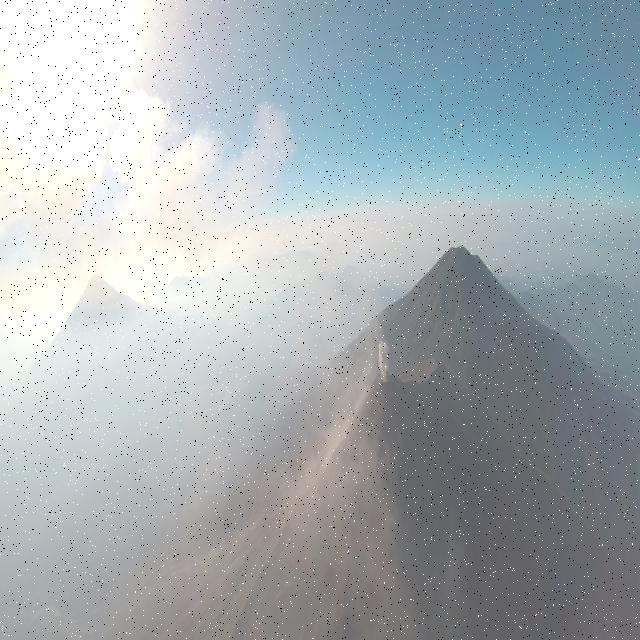Plume: (110, 87, 300, 253), (0, 88, 107, 245), (377, 339, 390, 381)
Summit: (366, 370, 420, 400)
